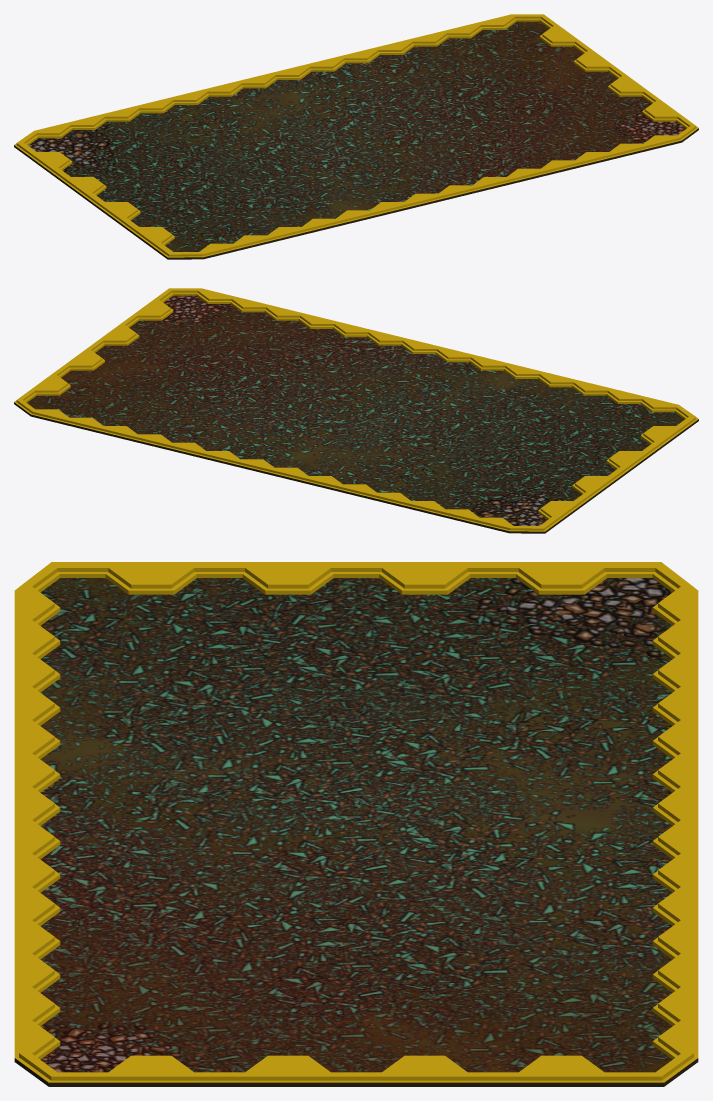
File: Hive_Map.fbx
3 renders of one model, top to bottom at view 1: azimuth 30°, elevation 25°; view 2: azimuth 150°, elevation 25°; view 3: azimuth 270°, elevation 25°, orthographic. The views are drawn at different scales.
Visible parts, largest first — view 1: Hive_Map; view 2: Hive_Map; view 3: Hive_Map.
Boxes of the visible parts, left/top/right/bottom form: Hive_Map: left=14, top=14, right=698, bottom=259; Hive_Map: left=14, top=288, right=698, bottom=533; Hive_Map: left=14, top=562, right=698, bottom=1086.
Bounding box in the file's own units: 2691 × 30 × 1500.
